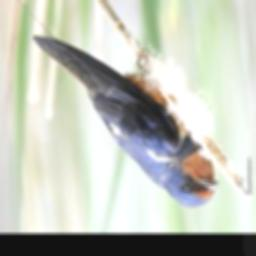Swallow: (32, 35, 222, 210)
